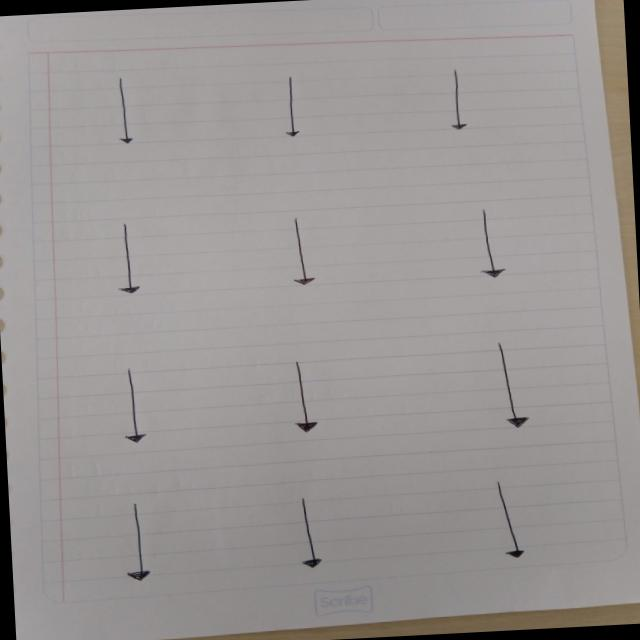arrow_line_down: (482, 338, 532, 434), (487, 480, 536, 560), (276, 360, 326, 436), (458, 208, 508, 282), (288, 492, 334, 572), (117, 502, 159, 588), (108, 219, 148, 299), (116, 368, 150, 453), (103, 76, 143, 146), (272, 75, 310, 140), (440, 68, 476, 132), (286, 214, 318, 286)
